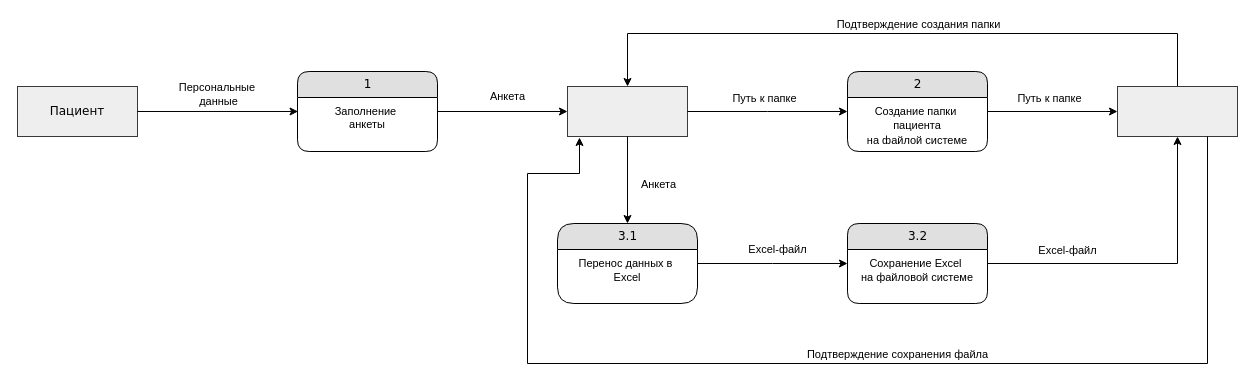
Image size: 1255x389. Some labels were removed from this diagram. Here are the shapes that lost their labels. From the top down, the centre of each, then its label:
At [627,111]: "Сотрудник ресепшена".
At [1177,111]: "Файловая система".
